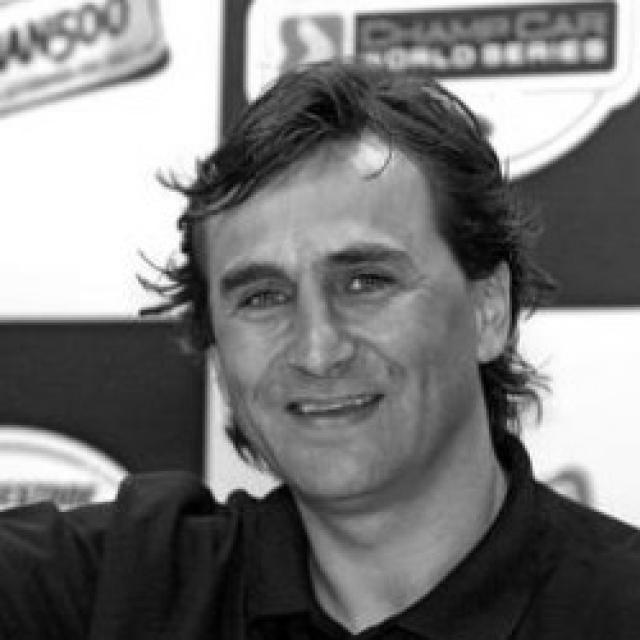real: (202, 158, 470, 493), (230, 254, 423, 326)
